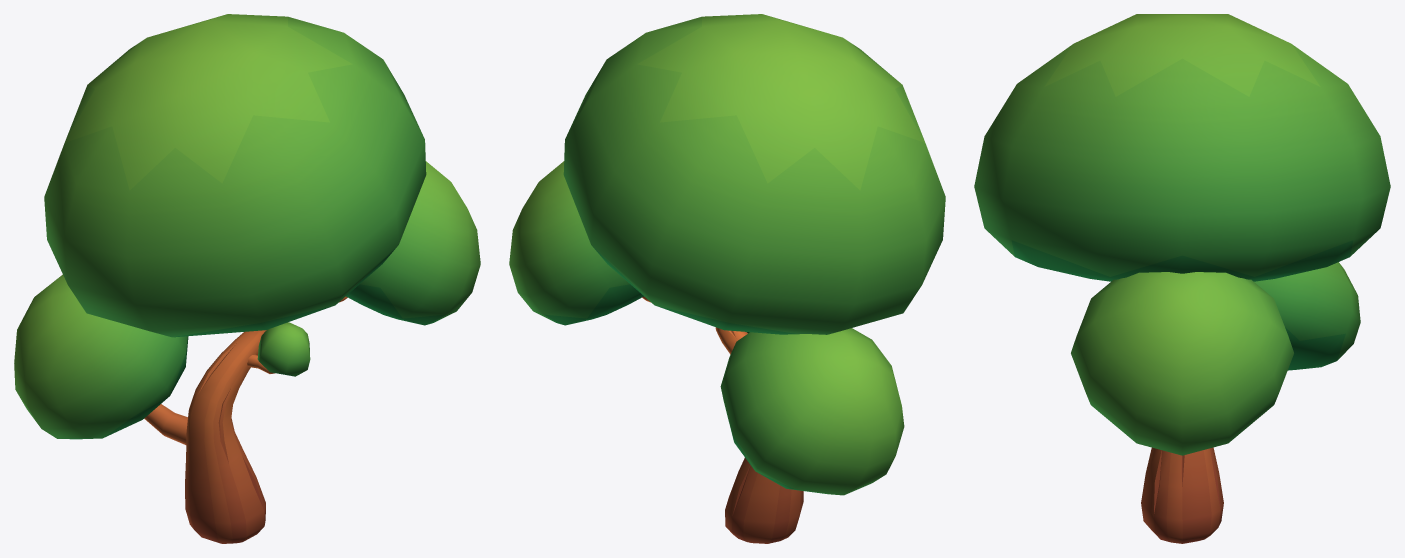
The model's file is Tree_1_C_Color1.glb.
3 renders of one model, left to right at view 1: azimuth 30°, elevation 25°; view 2: azimuth 150°, elevation 25°; view 3: azimuth 270°, elevation 25°, orthographic. The views are drawn at different scales.
Parts seen in each view (by area): view 1: Tree_1_C_Color1; view 2: Tree_1_C_Color1; view 3: Tree_1_C_Color1.
Part boxes in pixels (x1=…): Tree_1_C_Color1: x1=14, y1=14, x2=480, y2=543; Tree_1_C_Color1: x1=509, y1=14, x2=945, y2=543; Tree_1_C_Color1: x1=974, y1=14, x2=1390, y2=543.
Bounding box in the file's own units: 6.69 × 7.81 × 5.75.
Materials: 1 (1 with a texture image).
